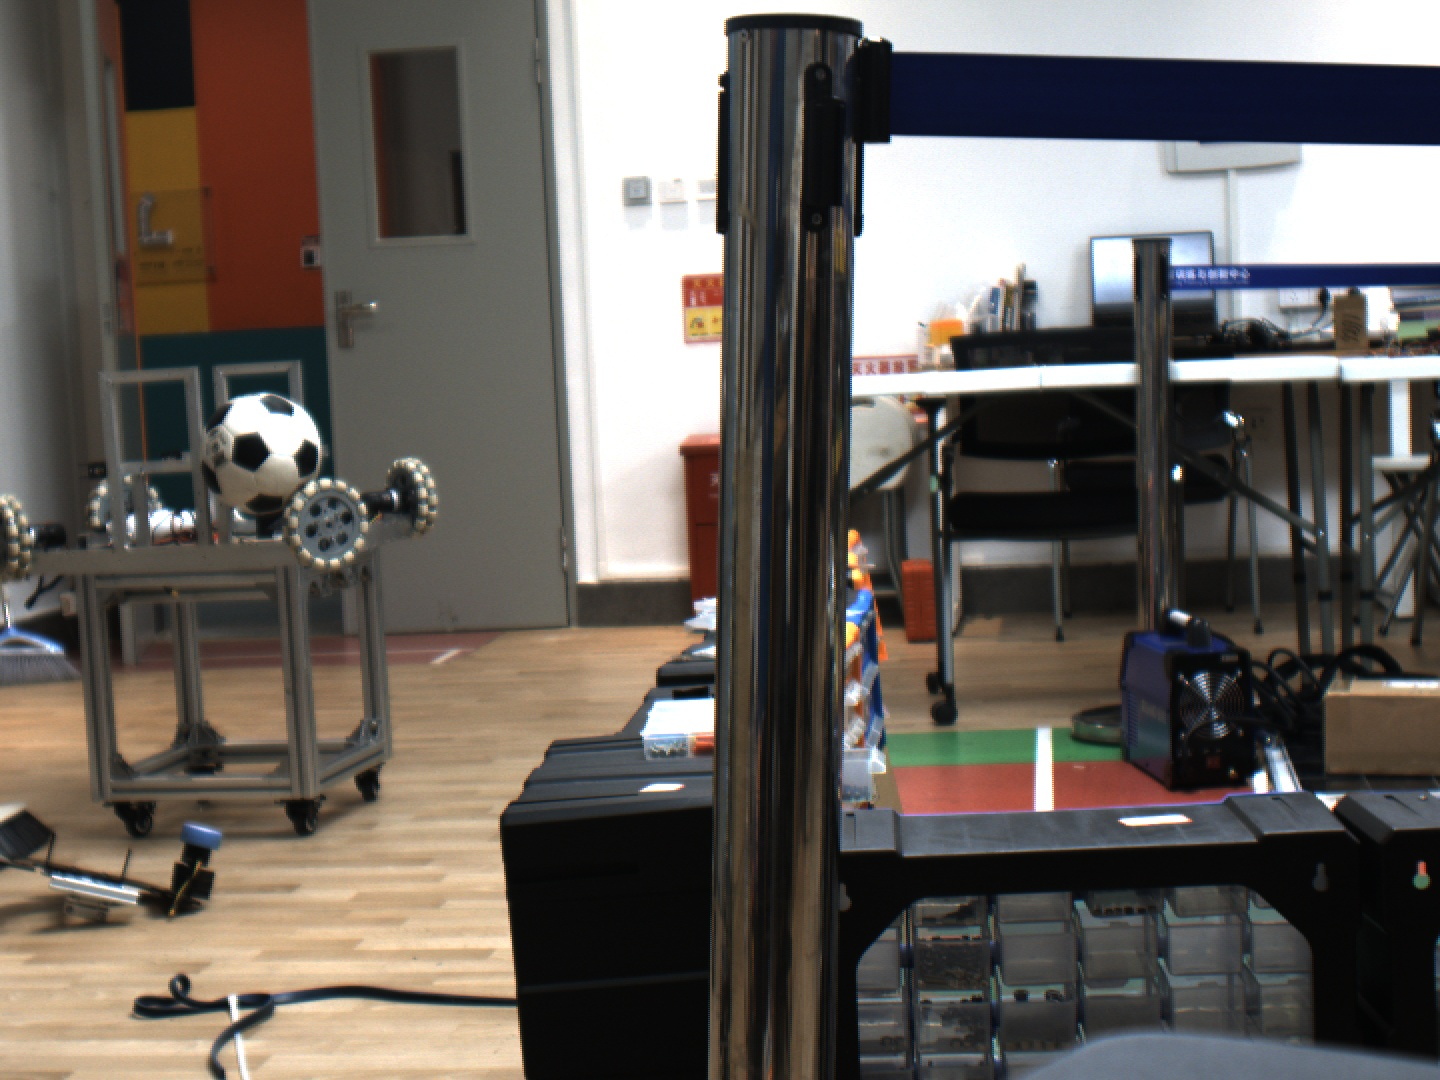ball: (189, 379, 351, 534)
